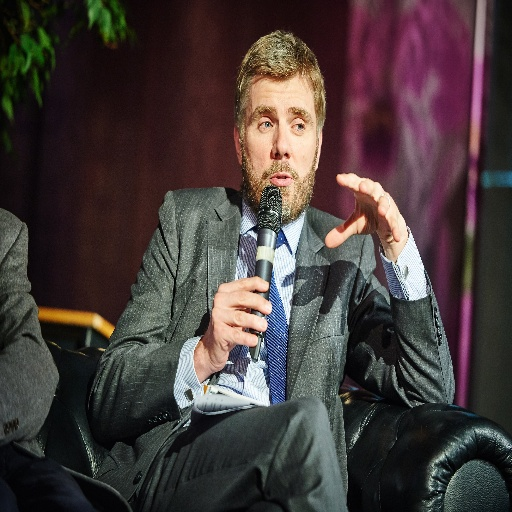hand: (336, 154, 409, 272), (201, 274, 273, 372)
